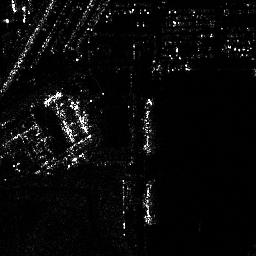ship: (140, 97, 153, 153), (140, 182, 155, 225)
